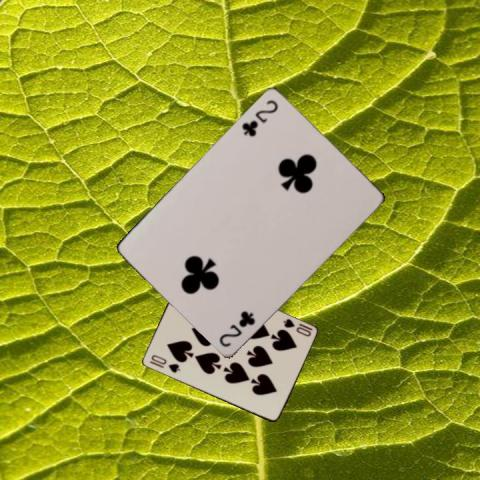10s: (148, 351, 181, 374), (280, 315, 312, 338)
2c: (216, 307, 257, 348), (239, 96, 279, 138)
